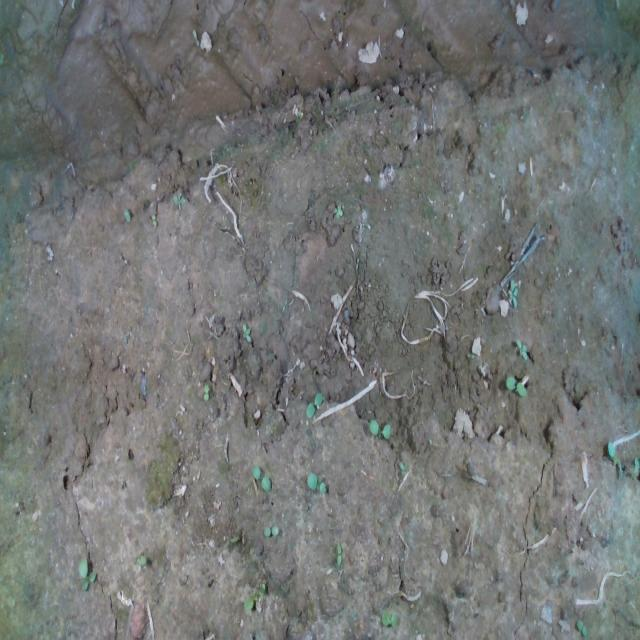weed: (75, 554, 99, 596), (250, 460, 274, 492), (306, 468, 328, 500), (367, 413, 391, 440), (504, 371, 528, 398), (504, 276, 522, 304), (304, 389, 319, 418), (262, 520, 282, 540), (332, 540, 344, 572), (171, 190, 189, 211), (516, 335, 528, 360), (202, 382, 213, 406), (242, 322, 254, 343), (333, 200, 343, 217)
